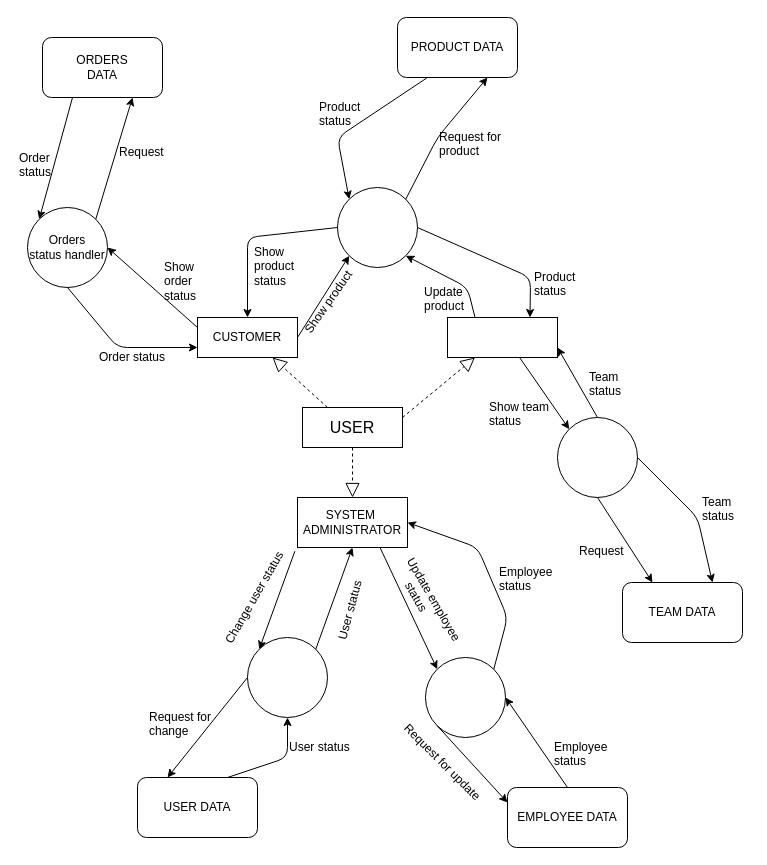
Some shapes in this 767 by 865 pixel diagram are drawn without their labels. The shapes that lost their labels are listed below. From the top down, each one's centre as x and y in pixels, then its label:
At point 377,227: "Products handler".
At point 502,337: "TEAM LEADER".
At point 597,457: "Team status handler".
At point 287,677: "User status handler".
At point 465,697: "Employee status handler".
